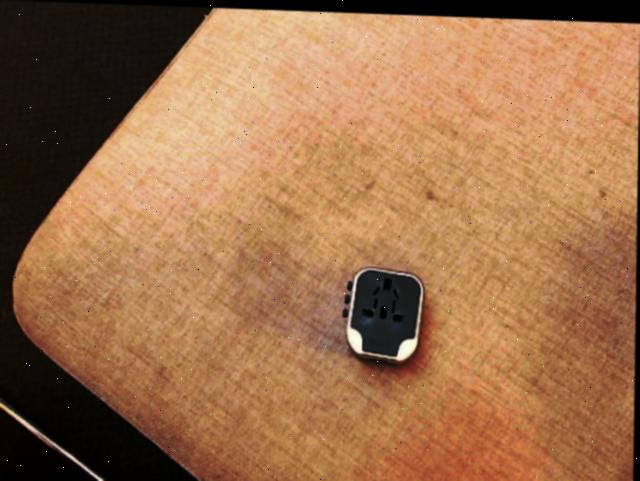adapter: (341, 263, 424, 362)
